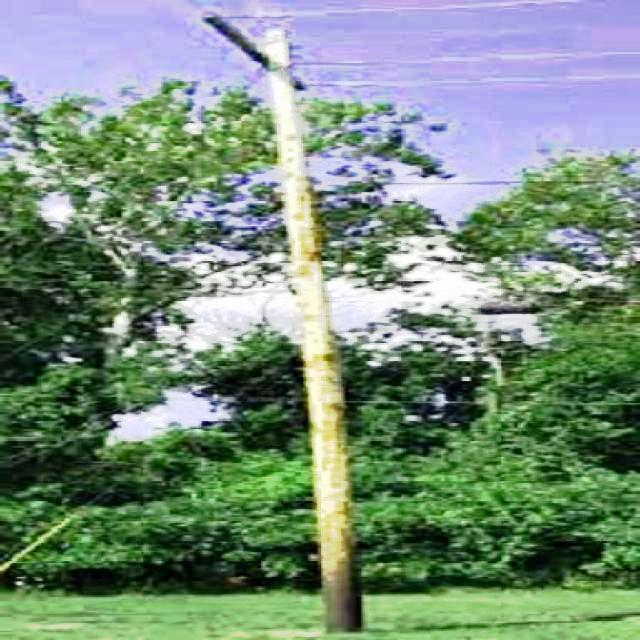poles: (202, 14, 362, 631)
wires: (308, 39, 639, 98)
